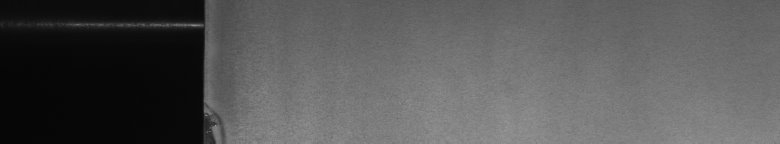hb: (212, 100, 240, 136)
